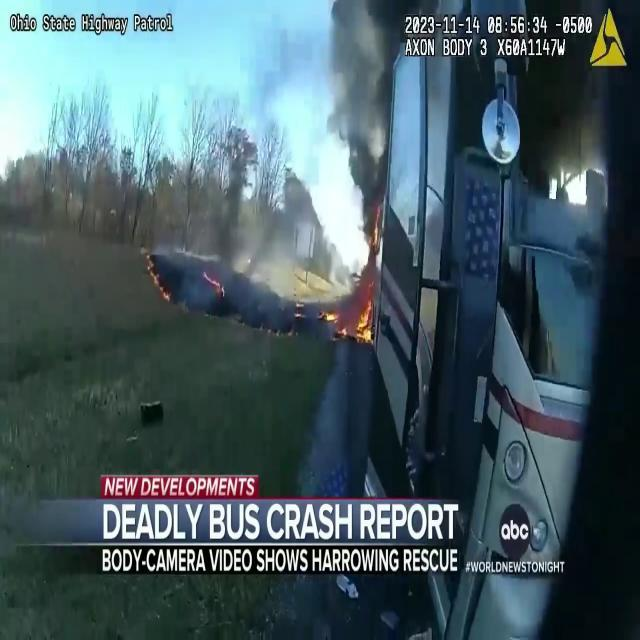Fire: (354, 290, 374, 343)
Smoke: (322, 1, 406, 222)
